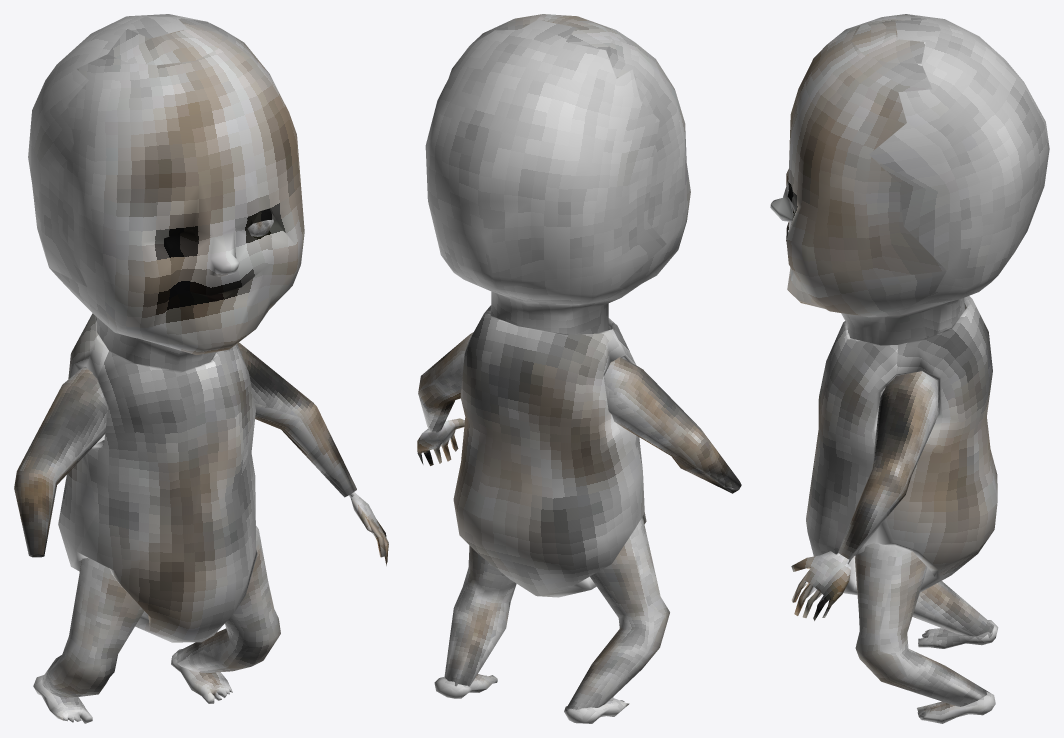
Rendered from Doll.fbx.
3 renders of one model, left to right at view 1: azimuth 30°, elevation 25°; view 2: azimuth 150°, elevation 25°; view 3: azimuth 270°, elevation 25°, orthographic. The views are drawn at different scales.
Visible parts, largest first — view 1: Creepy Doll; view 2: Creepy Doll; view 3: Creepy Doll.
Boxes of the visible parts, x1,y1,x2,y2 form: Creepy Doll: (14, 14, 388, 723); Creepy Doll: (417, 14, 741, 723); Creepy Doll: (770, 14, 1049, 723).
Bounding box in the file's own units: 87.01 × 167 × 63.94.
Materials: 5 (5 with a texture image).
